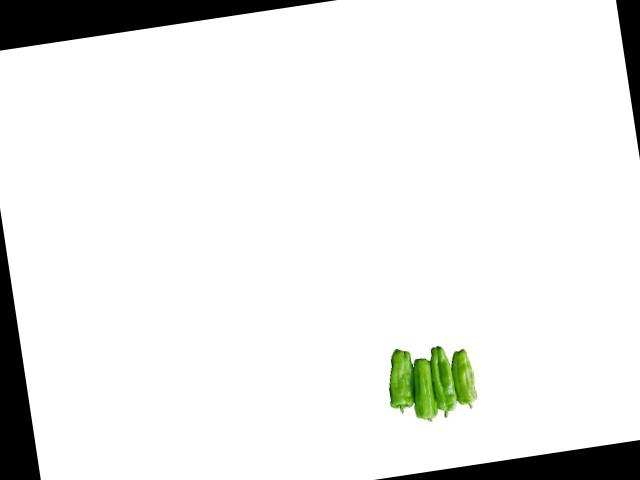bell_pepper: (381, 342, 420, 418)
